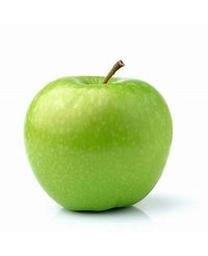apple: (22, 60, 173, 212)
